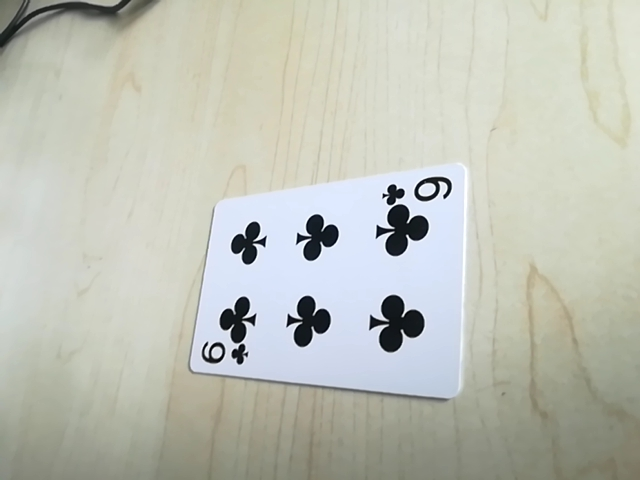mh 6: (382, 172, 456, 206), (194, 337, 250, 370)
